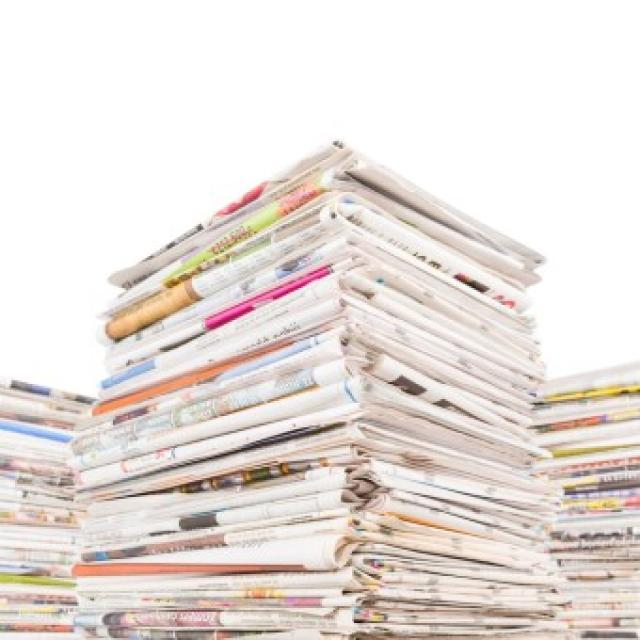Newspaper: (66, 136, 577, 640)
